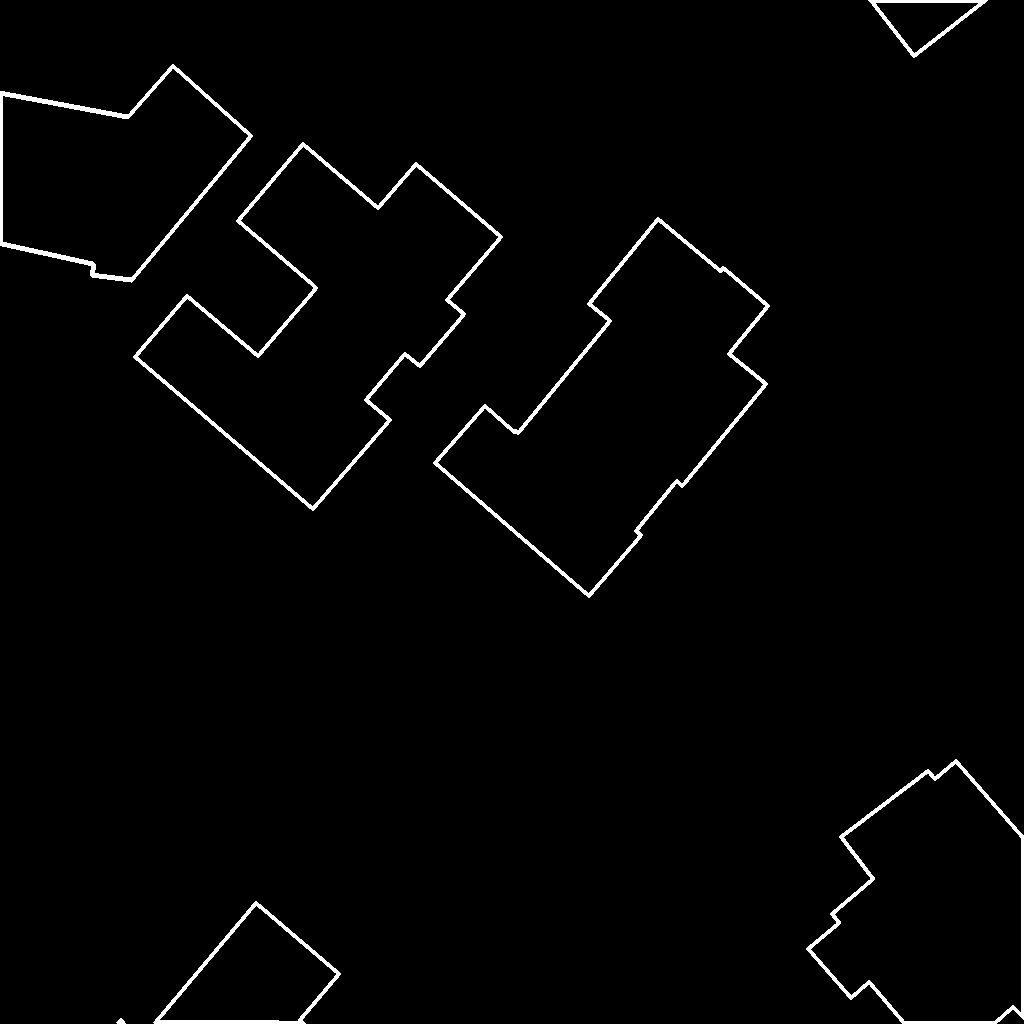building: (135, 144, 502, 510), (435, 219, 769, 597), (808, 761, 1024, 1024), (0, 66, 252, 281), (118, 903, 340, 1024), (870, 0, 987, 57)
